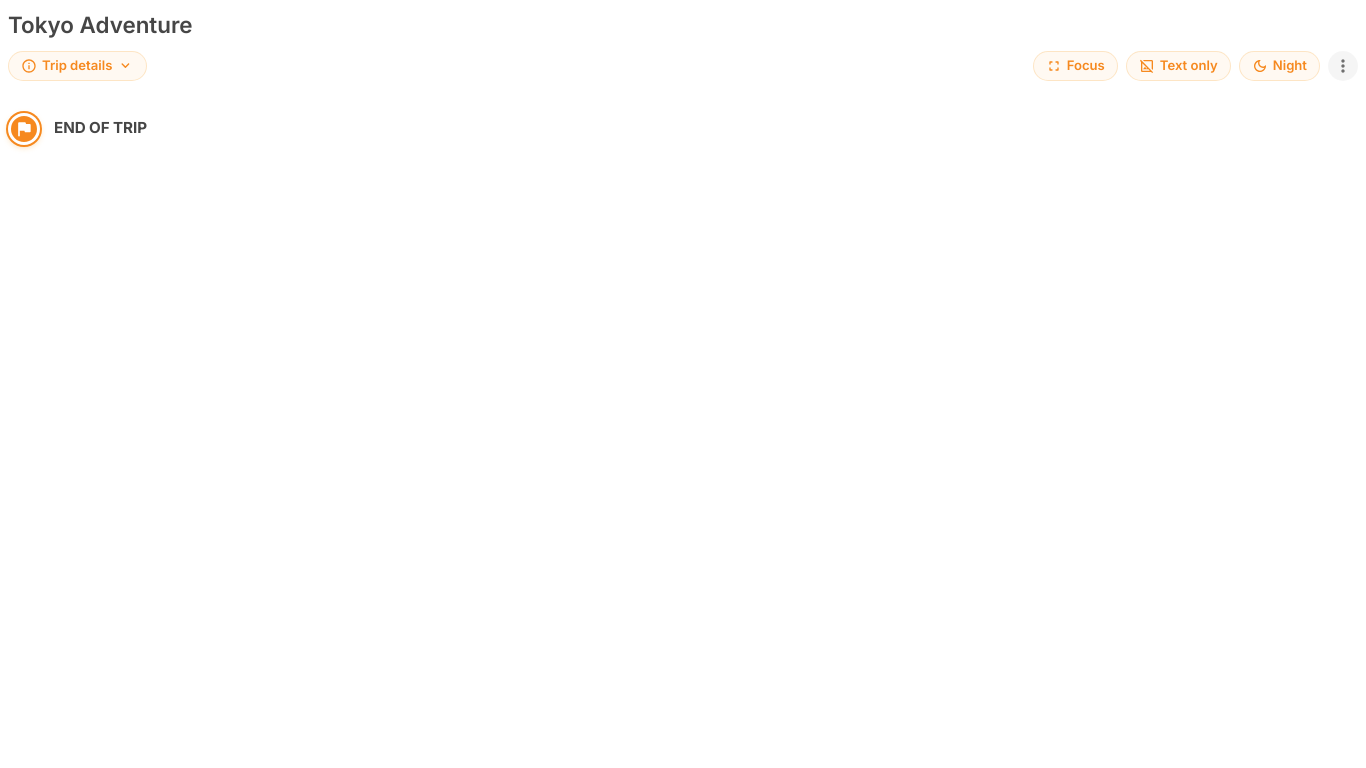
Test: TripDetail — header menu actions › errors if the Cancelled status cannot be resolved
The image size is (1366, 768).
What coordinates should you click on to do the following:
click the button named "More actions"
I would click on:
 (1343, 66)
Its box is [1328, 51, 1358, 81].
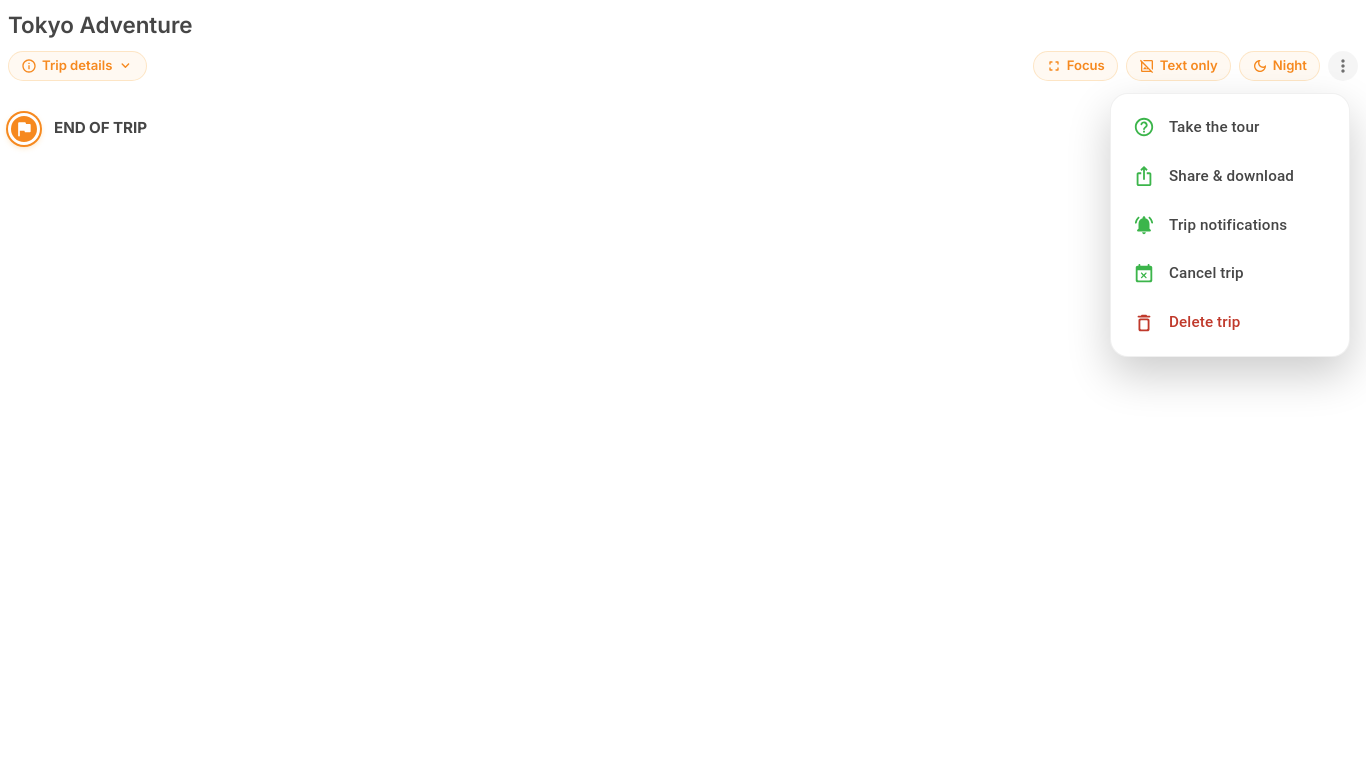
What coordinates should you click on to do the following:
click the menu item "Cancel trip"
I would click on:
 (1188, 274)
Its box is [1133, 263, 1244, 285].
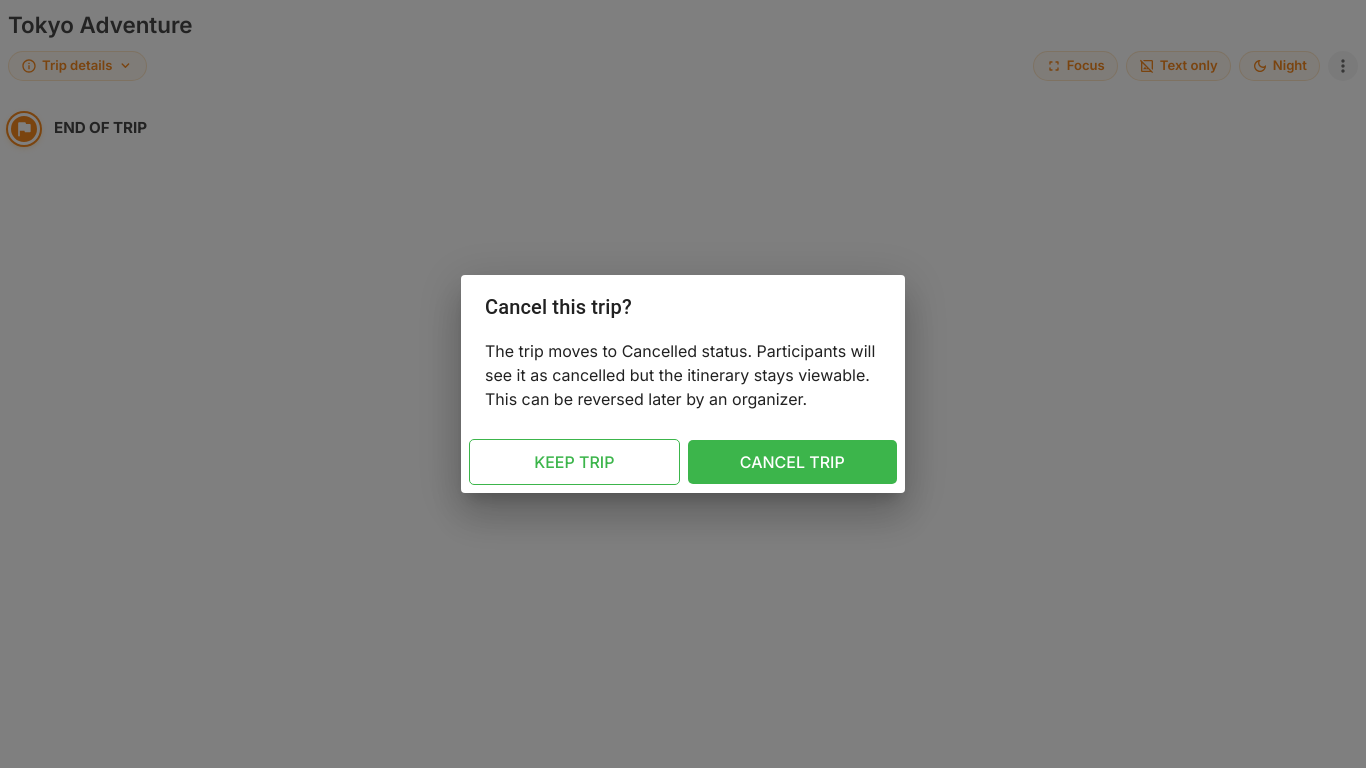
What coordinates should you click on to do the following:
click the button "Cancel trip"
I would click on:
 (792, 462)
Its box is [688, 440, 897, 484].
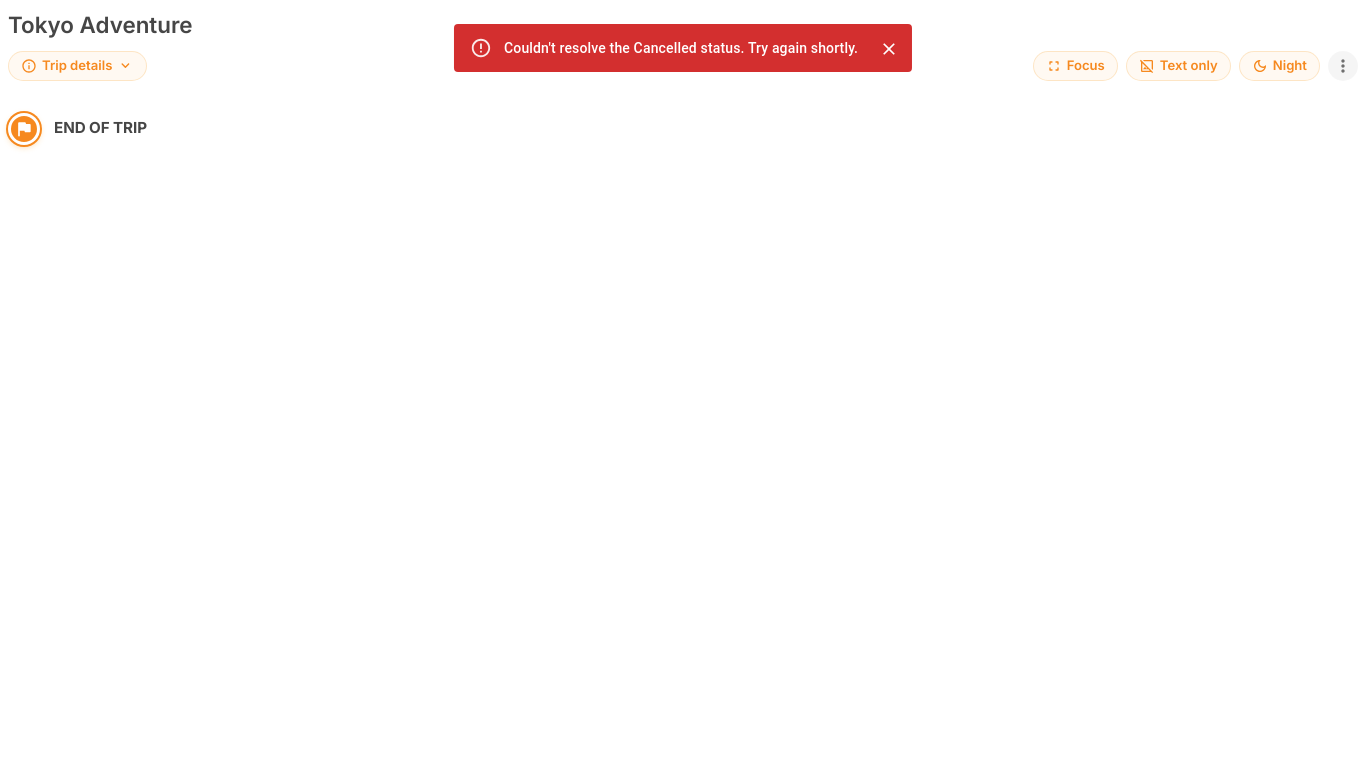
Expected: the text "Couldn't resolve the Cancelled status. Try again shortly." is shown, [504, 40, 858, 56]
